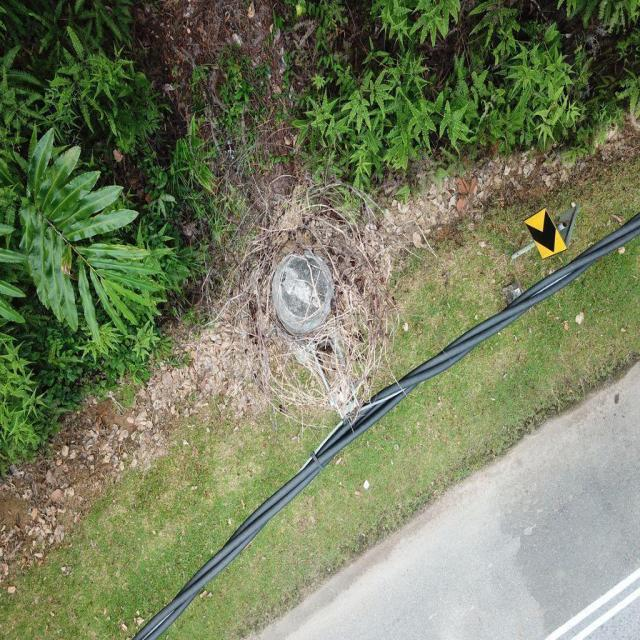critical vegetation: (198, 158, 426, 426)
